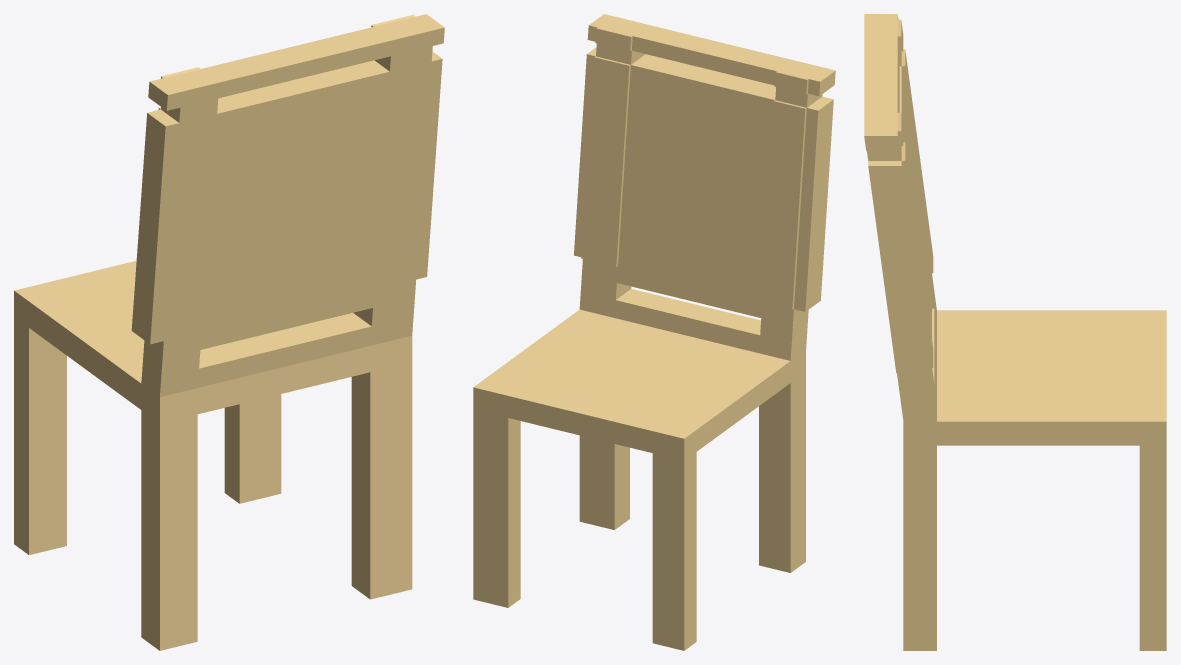
File: kursi1cream.glb
3 renders of one model, left to right at view 1: azimuth 30°, elevation 25°; view 2: azimuth 150°, elevation 25°; view 3: azimuth 270°, elevation 25°, orthographic. The views are drawn at different scales.
Parts seen in each view (by area): view 1: Cube; view 2: Cube; view 3: Cube.
Boxes of the visible parts, x1=… form: Cube: x1=14, y1=14, x2=444, y2=650; Cube: x1=473, y1=14, x2=835, y2=650; Cube: x1=864, y1=14, x2=1166, y2=650.
Size of the model in its own units: 1.39 by 2.76 by 1.45.
